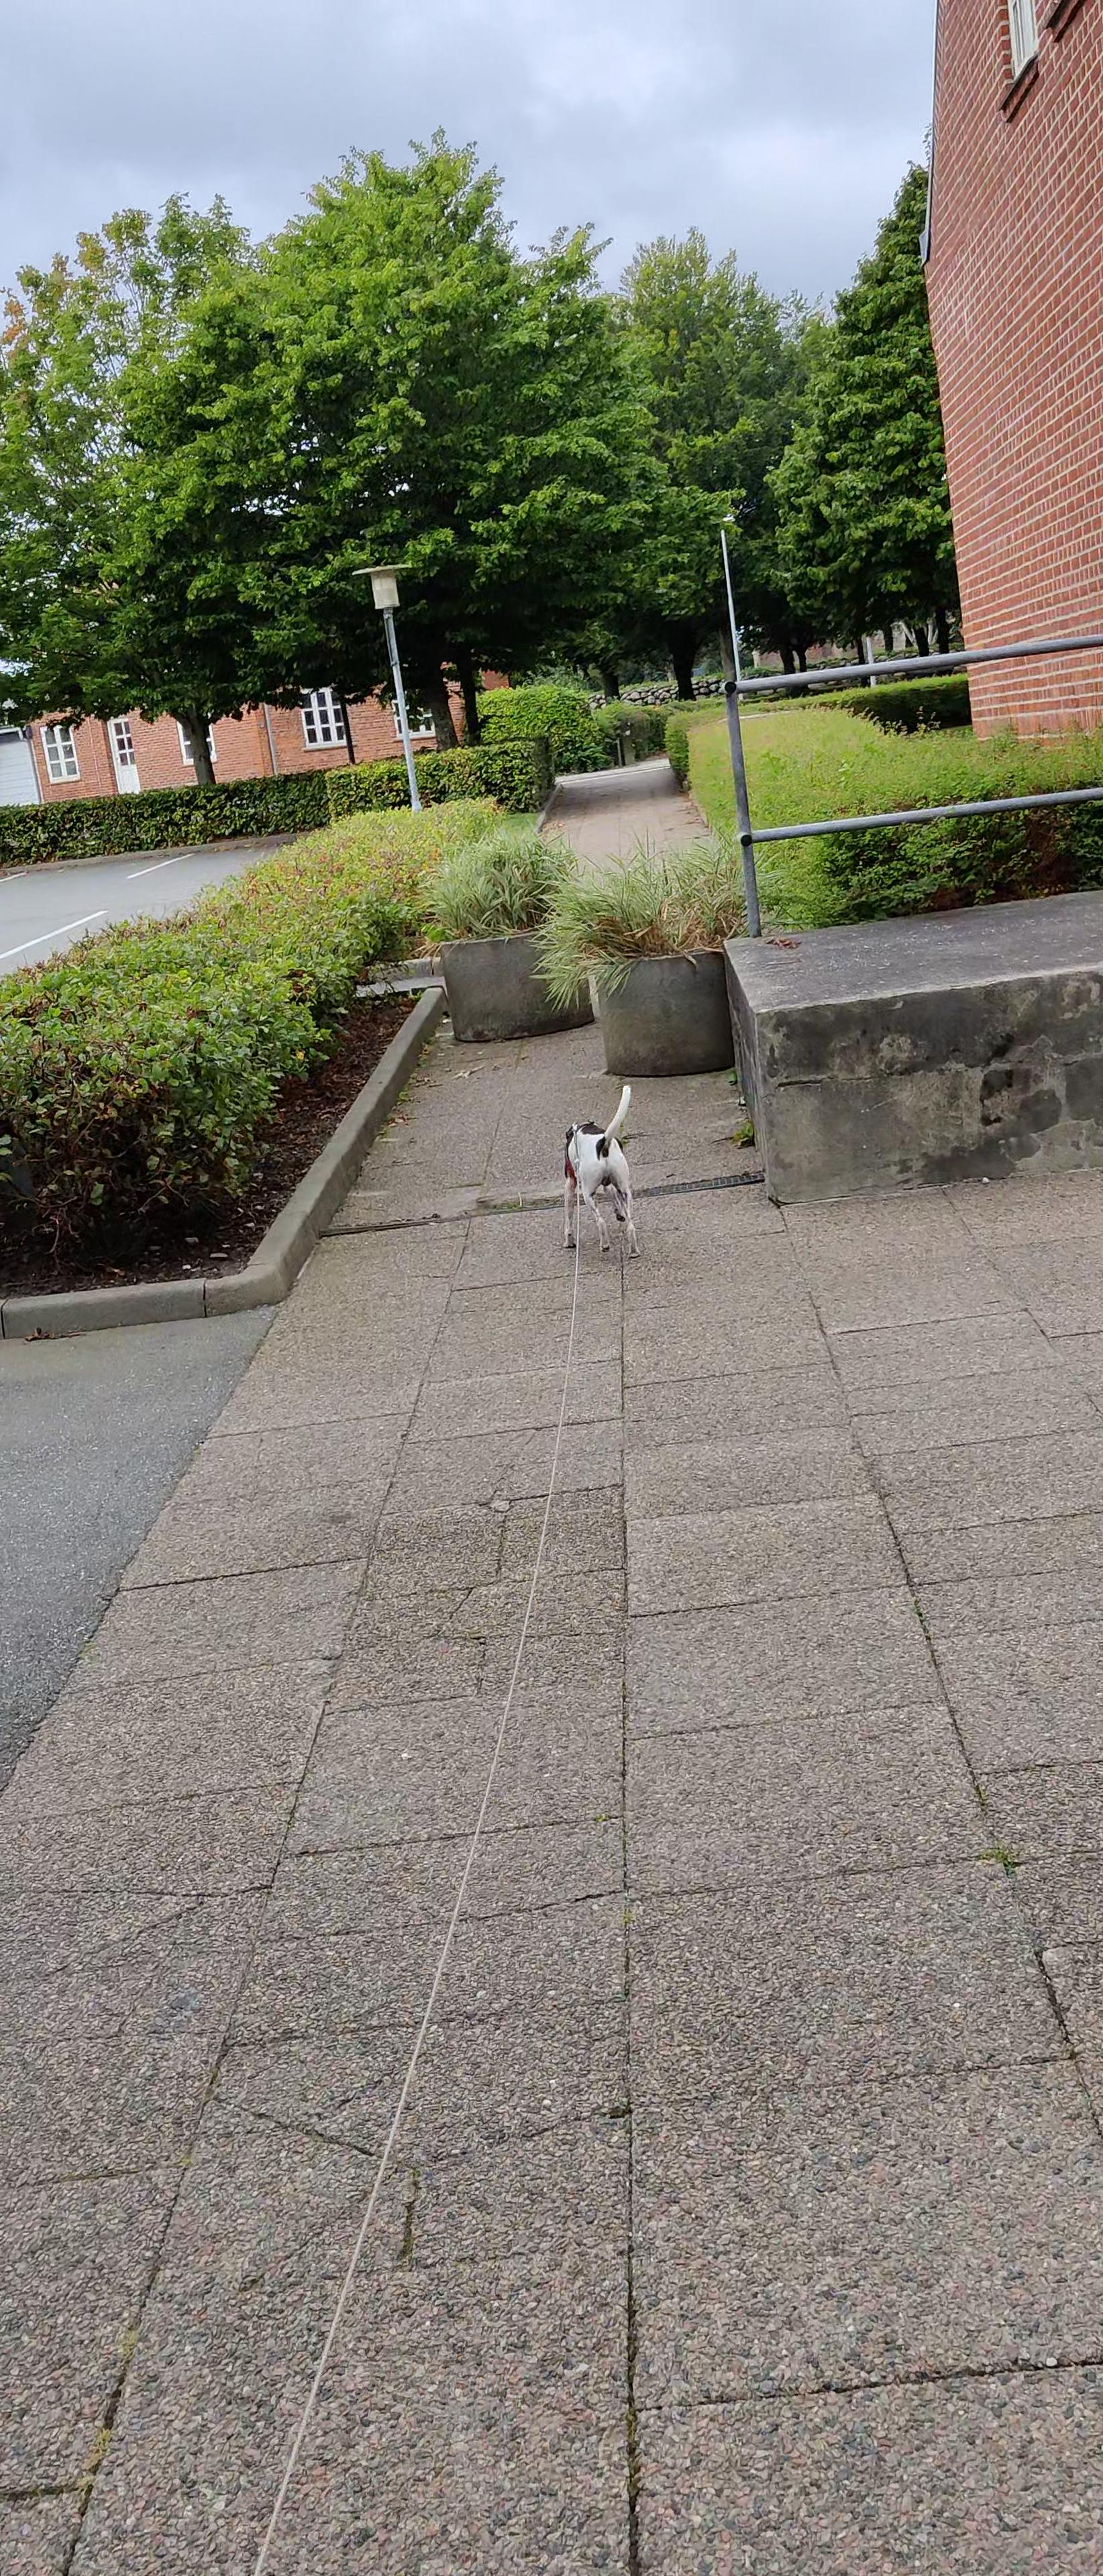Dog: (552, 1078, 646, 1258)
